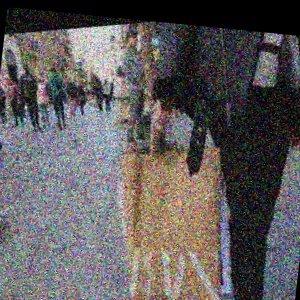zara: (139, 108, 300, 300)
